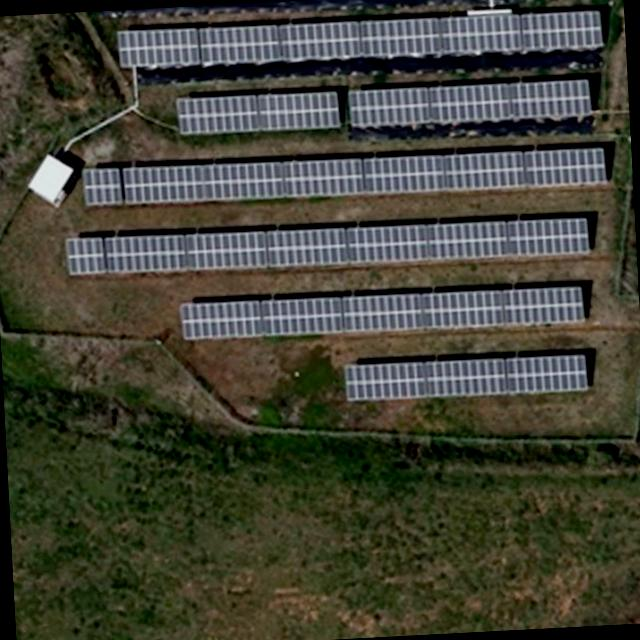solar: (122, 160, 284, 207), (508, 78, 594, 124), (504, 215, 591, 260), (266, 223, 349, 270), (345, 86, 432, 130), (519, 8, 606, 52), (358, 15, 442, 60), (426, 218, 509, 263), (183, 229, 269, 272), (524, 145, 610, 188), (345, 222, 429, 266), (280, 156, 366, 198), (429, 81, 511, 125), (442, 148, 526, 190), (362, 152, 446, 194), (257, 89, 341, 131), (440, 12, 522, 55), (278, 21, 360, 64), (200, 24, 282, 67), (116, 26, 202, 67), (504, 353, 589, 394), (424, 357, 508, 398), (504, 284, 586, 326), (422, 288, 504, 330), (260, 297, 344, 338), (180, 300, 262, 342), (104, 232, 186, 274), (176, 94, 260, 135), (344, 362, 428, 402), (342, 292, 424, 332), (80, 166, 124, 207), (65, 234, 106, 277)
